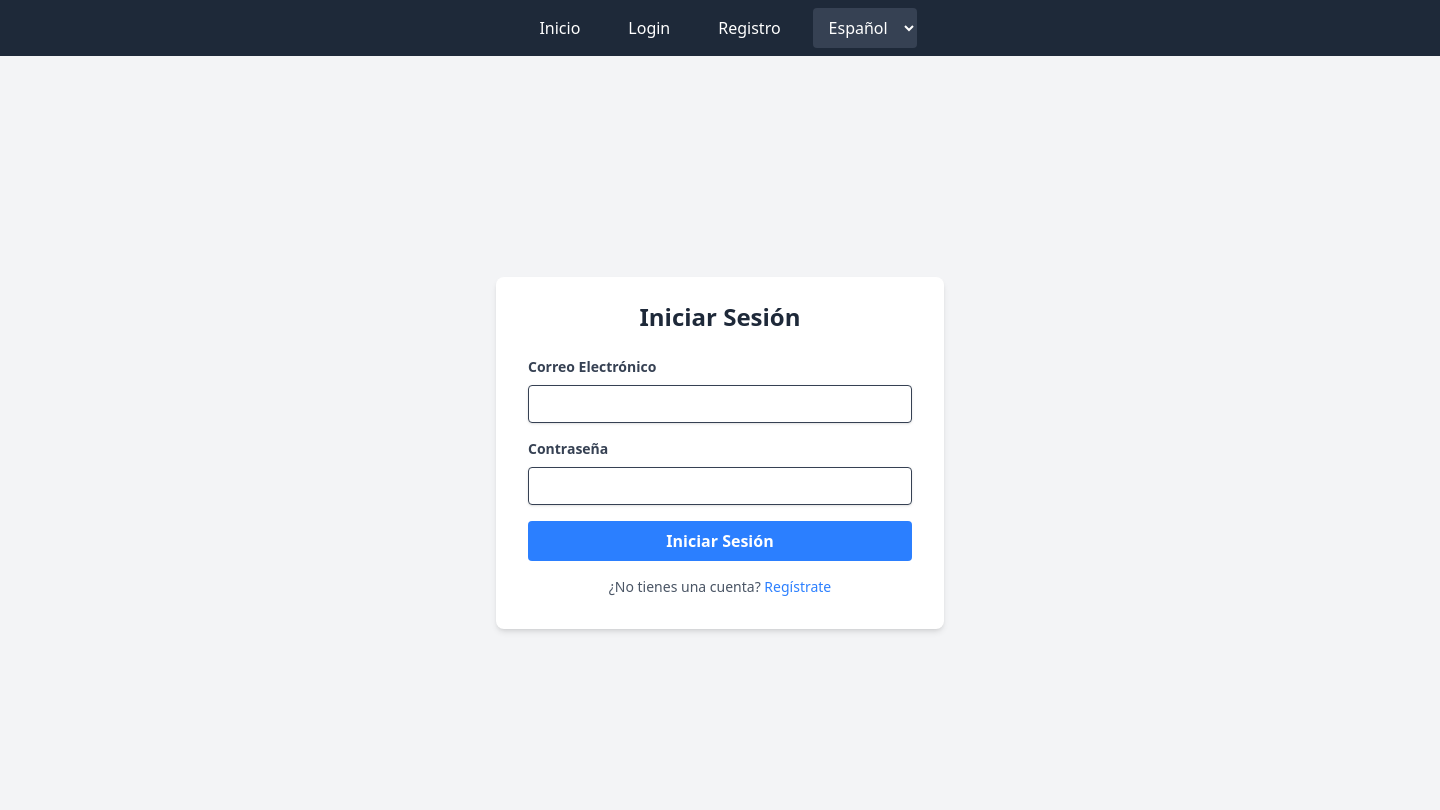
Paginas sin login renderizan correctamente › Debería renderizar correctamente la pagina de registro (RegisterPage)
Click the link "Registro" at (750, 28), box left=718, top=17, right=781, bottom=39
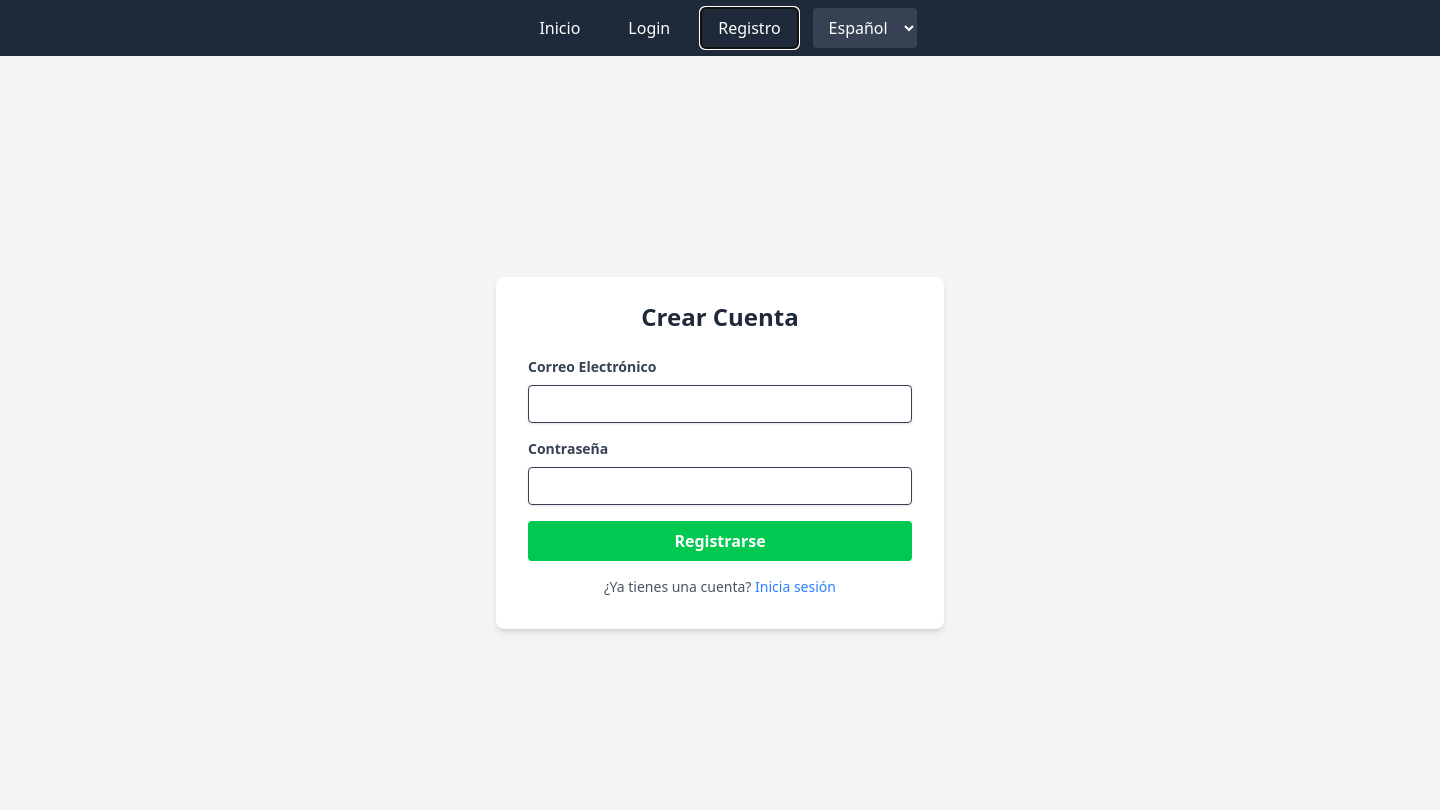
Now the heading "Crear Cuenta" is shown, box left=641, top=300, right=799, bottom=333
